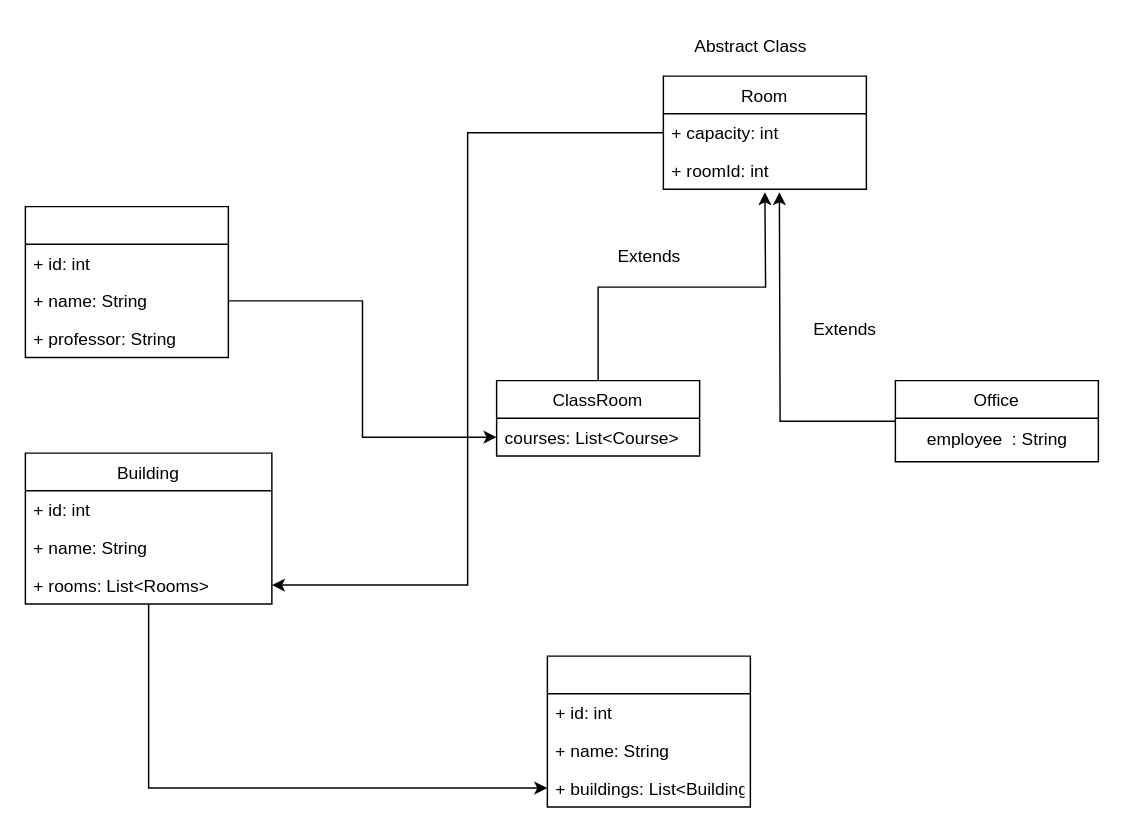
Some shapes in this 1124 by 835 pixel diagram are drawn without their labels. The box of each missing label's shape, as (x1, y1, x2, y2) in pixels:
Campus: (546, 655, 750, 807)
Course: (24, 205, 228, 357)
